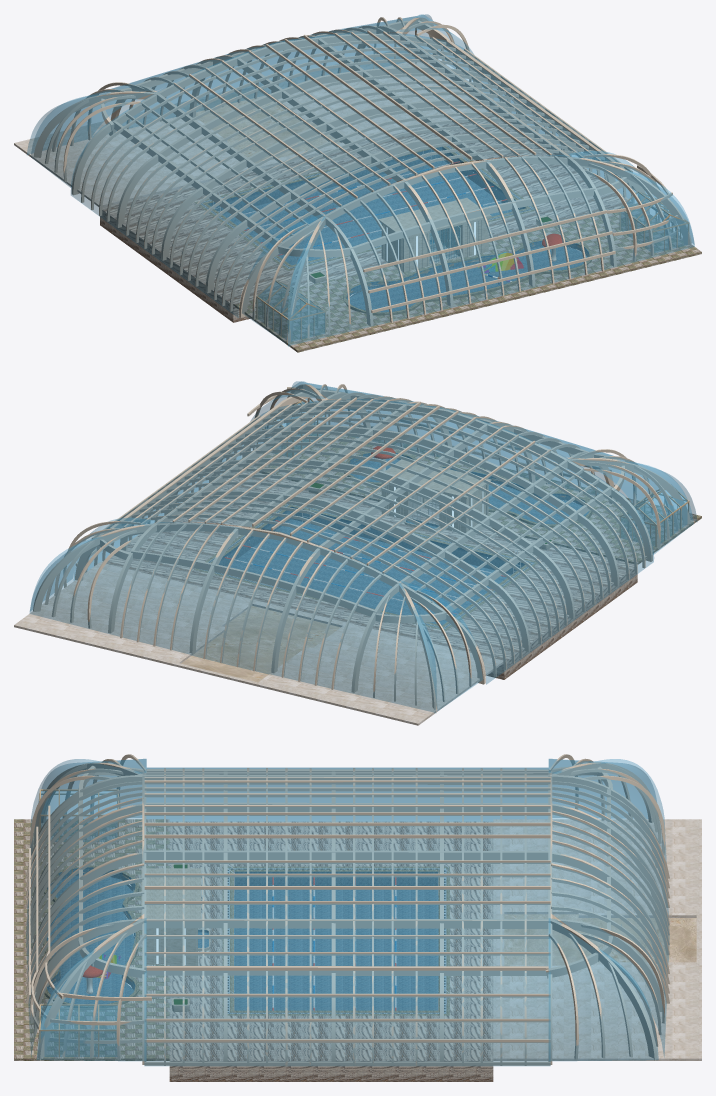
Rendered from pool.glb.
3 renders of one model, top to bottom at view 1: azimuth 30°, elevation 25°; view 2: azimuth 150°, elevation 25°; view 3: azimuth 270°, elevation 25°, orthographic. The views are drawn at different scales.
Visible parts, largest first — view 1: prop; view 2: prop; view 3: prop.
Boxes of the visible parts, x1,y1,x2,y2 form: prop: [14, 14, 701, 352]; prop: [14, 381, 701, 725]; prop: [14, 754, 701, 1081].
Bounding box in the file's own units: 42.83 × 11.67 × 50.8.
41 materials, 16 textured.
